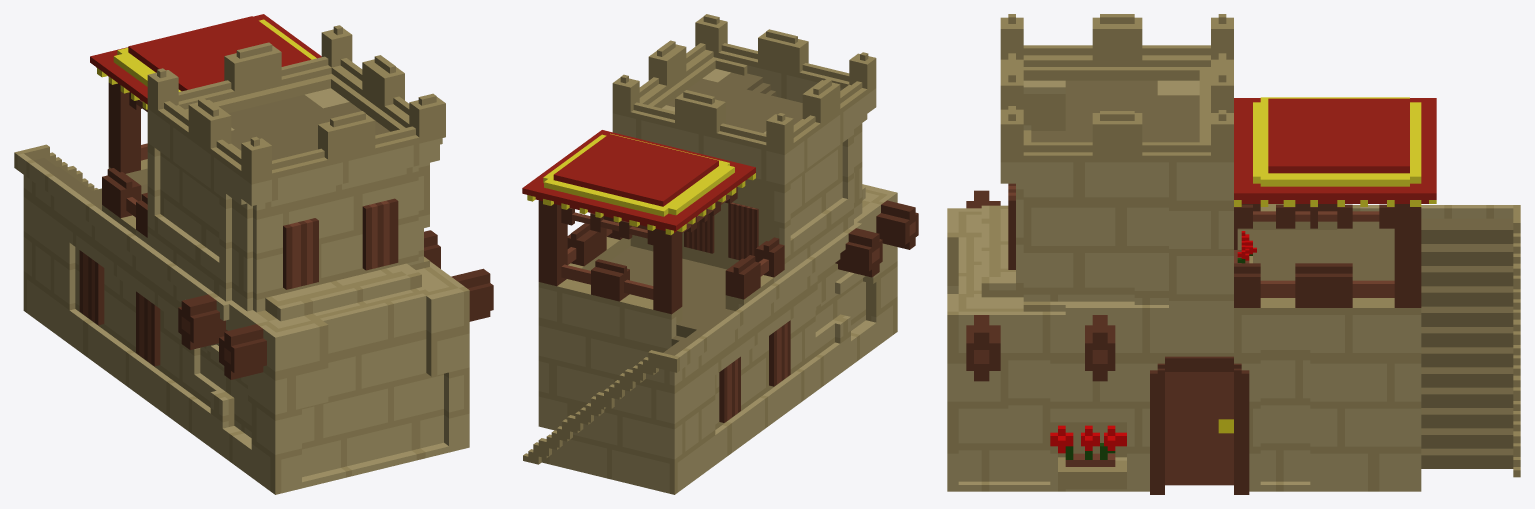
The model's file is house_1.fbx.
3 renders of one model, left to right at view 1: azimuth 30°, elevation 25°; view 2: azimuth 150°, elevation 25°; view 3: azimuth 270°, elevation 25°, orthographic. The views are drawn at different scales.
Parts seen in each view (by area): view 1: house_1; view 2: house_1; view 3: house_1.
Part boxes in pixels (box(x1,y1,x2,y2)): house_1: box(14, 14, 493, 494); house_1: box(522, 14, 918, 494); house_1: box(947, 14, 1520, 494).
Bounding box in the file's own units: 880 × 1500 × 1080.
